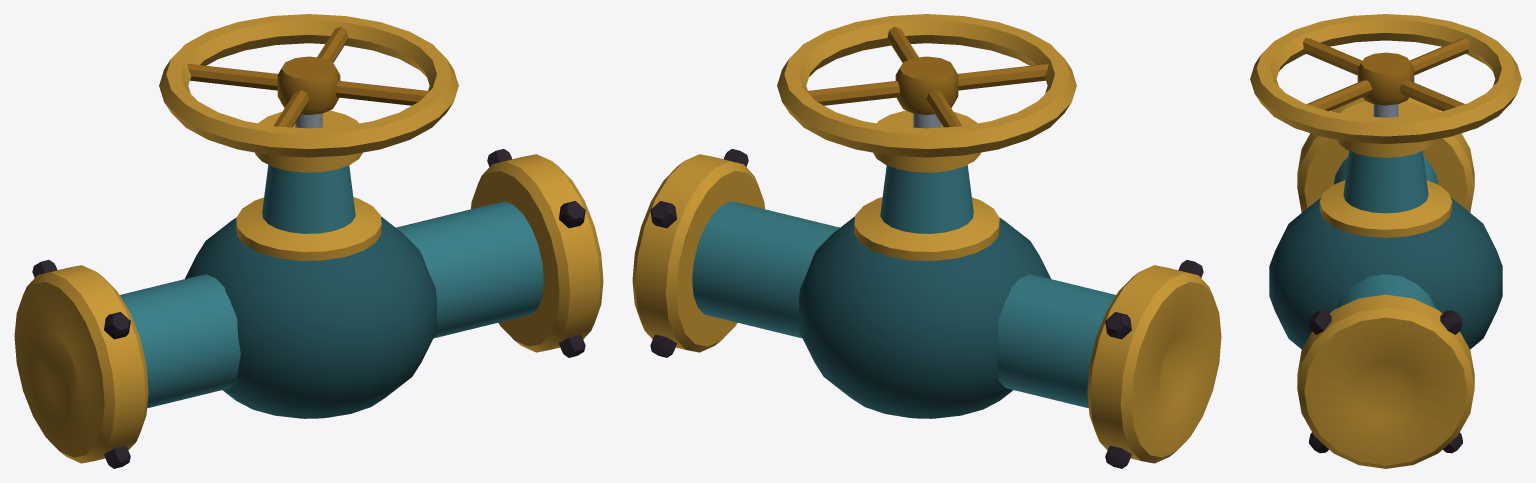
Rendered from Valve_04.glb.
3 views of the same model, side by side, from view 1: azimuth 30°, elevation 25°; view 2: azimuth 150°, elevation 25°; view 3: azimuth 270°, elevation 25° (orthographic). The views are drawn at different scales.
Visible parts, largest first — view 1: Valve_04; view 2: Valve_04; view 3: Valve_04.
Boxes of the visible parts, x1,y1,x2,y2 form: Valve_04: [14, 14, 603, 468]; Valve_04: [632, 14, 1221, 468]; Valve_04: [1250, 14, 1521, 468].
Size of the model in its own units: 2.95 by 1.91 by 1.53.
